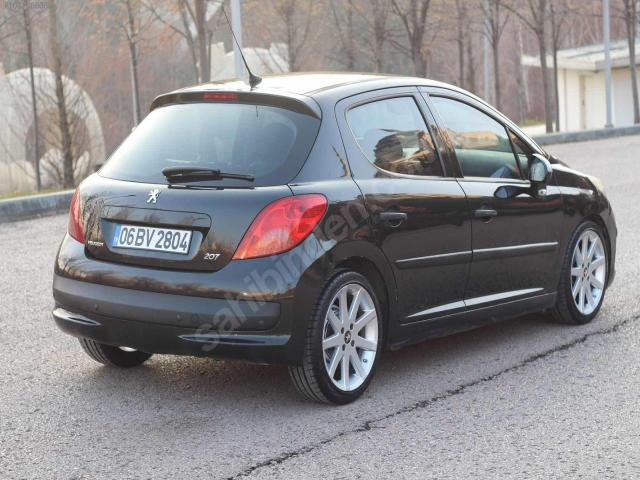plaka: (109, 224, 193, 254)
